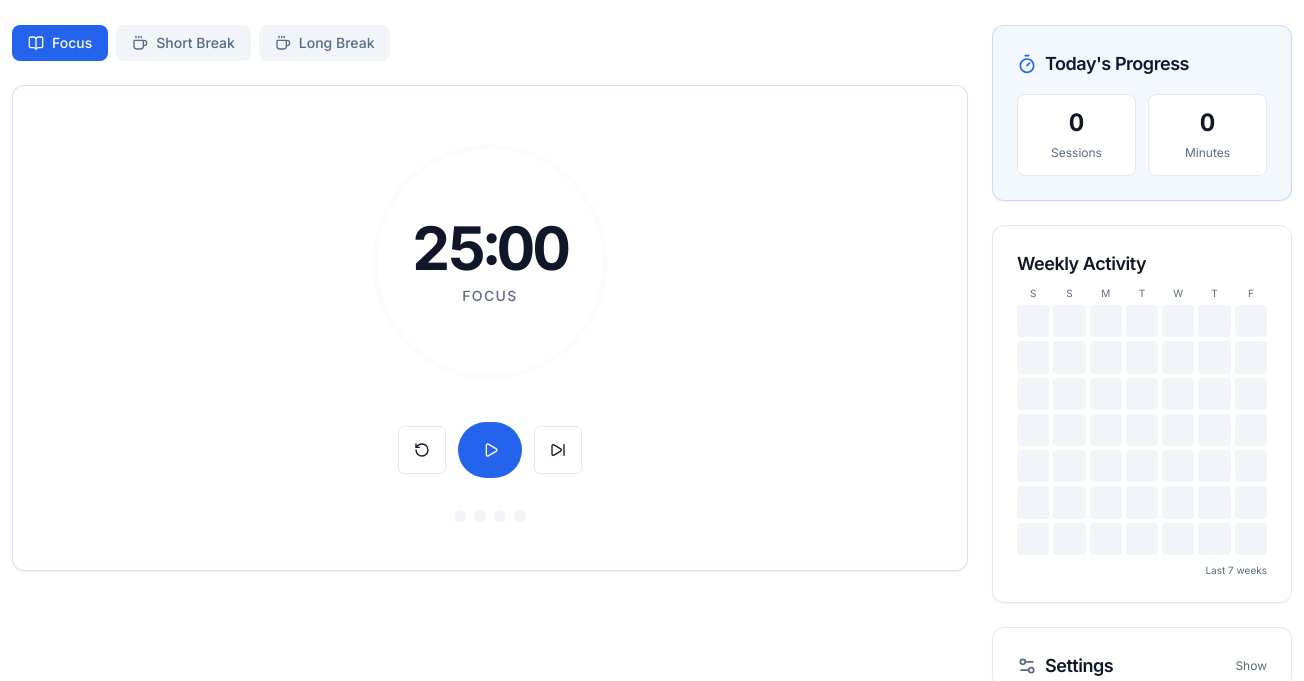
Test: StudyTimer › updates the focus duration from settings and persists it
Click the button "Settings Show" at (1142, 666), box x1=1017 y1=652 x2=1267 y2=680
(page scrolled)
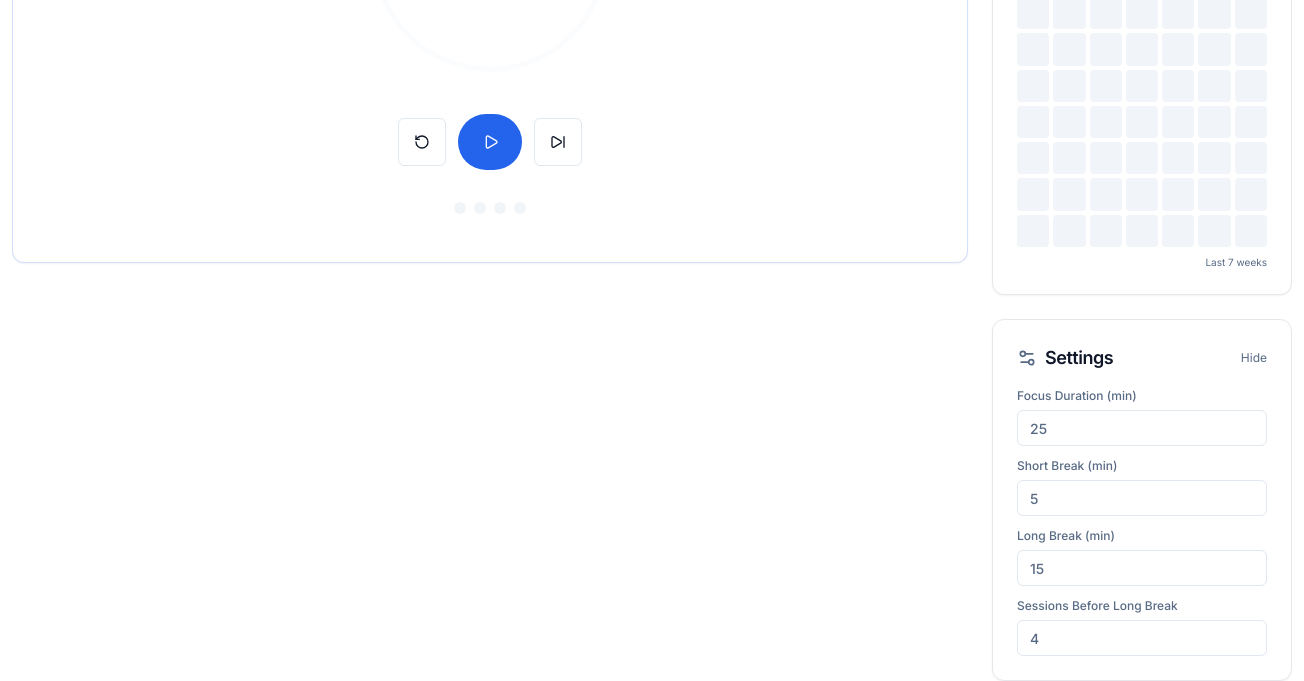
Replace the text in the number field showing "25" with "15" at (1142, 428), box x1=1017 y1=410 x2=1267 y2=446
(page scrolled)
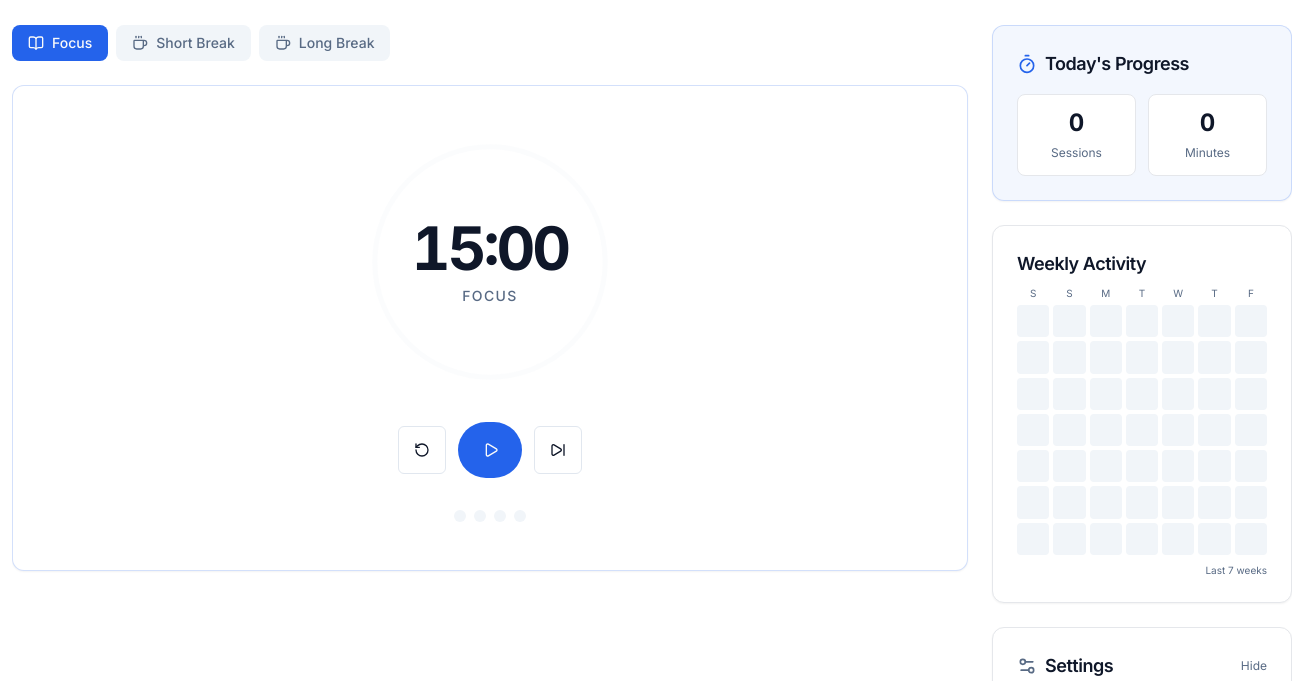
Result: the text "15:00" is shown at x1=412 y1=218 x2=568 y2=278
